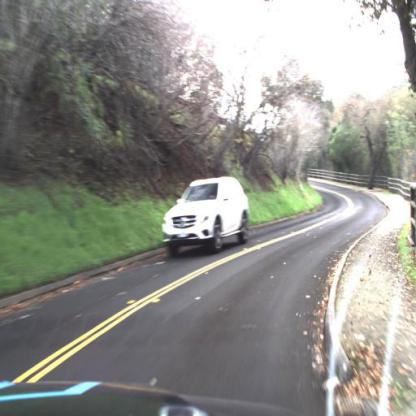car: (152, 173, 255, 261)
